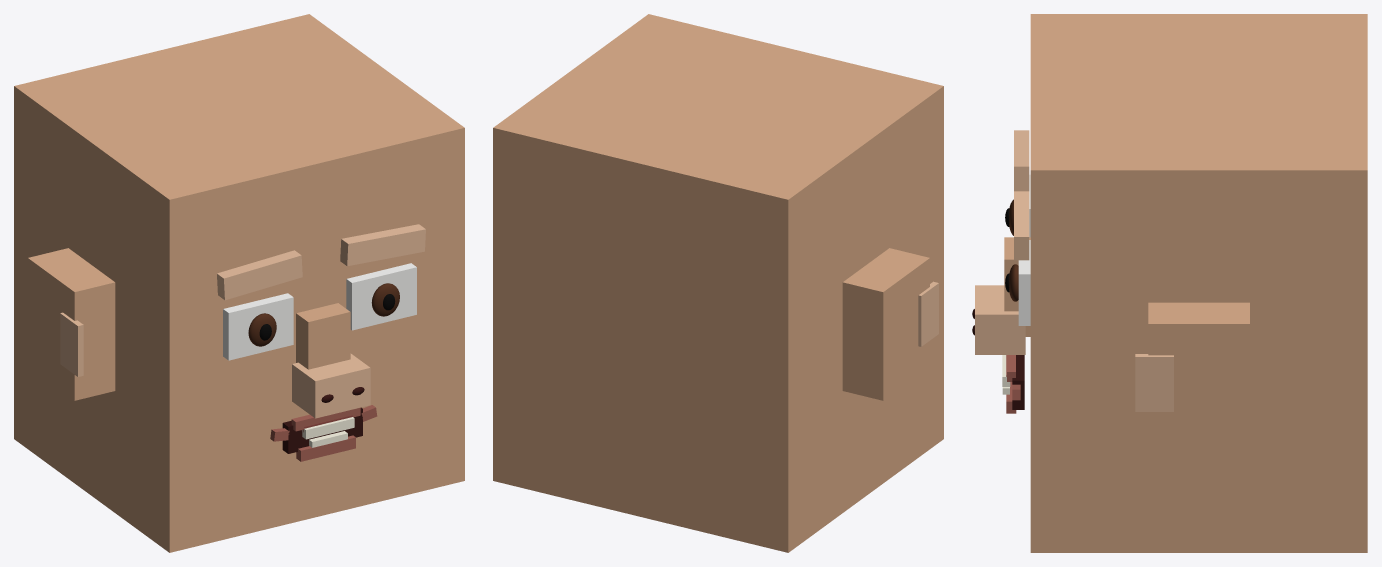
File: skomma_head6.glb
The picture shows the model from 3 angles, left to right: view 1: azimuth 30°, elevation 25°; view 2: azimuth 150°, elevation 25°; view 3: azimuth 270°, elevation 25°; orthographic projection. The views are drawn at different scales.
Parts seen in each view (by area): view 1: Head, Left_Ear, Nose_Tip, Nose_Bridge, Left_Eye, Right_Eye, Left_Eyebrow, Right_Eyebrow, Left_InnerEar, Mouth, Lower_Lip, Upper_Teeth (+3 smaller); view 2: Head, Left_Ear, Left_InnerEar; view 3: Head, Right_Ear, Nose_Tip, Right_InnerEar, Right_Eyebrow, Left_Eyebrow, Right_Eye, Nose_Bridge, Mouth.
Part boxes in pixels (box(x1,y1,x2,y2)): Head: box(14, 14, 464, 552); Left_Ear: box(28, 248, 115, 400); Nose_Tip: box(292, 353, 370, 418); Nose_Bridge: box(296, 303, 350, 369); Left_Eye: box(223, 293, 293, 360); Right_Eye: box(346, 263, 416, 330); Left_Eyebrow: box(217, 250, 302, 300); Right_Eyebrow: box(340, 224, 425, 266); Left_InnerEar: box(60, 312, 83, 376); Mouth: box(282, 407, 362, 453); Lower_Lip: box(296, 435, 355, 461); Upper_Teeth: box(302, 417, 354, 439); Head: box(493, 14, 943, 552); Left_Ear: box(842, 248, 929, 400); Left_InnerEar: box(918, 281, 938, 346); Head: box(1030, 14, 1367, 552); Right_Ear: box(1148, 302, 1249, 441); Nose_Tip: box(975, 285, 1025, 354); Right_InnerEar: box(1135, 354, 1173, 411); Right_Eyebrow: box(1014, 191, 1029, 260); Left_Eyebrow: box(1014, 130, 1029, 191); Right_Eye: box(1018, 240, 1030, 325); Nose_Bridge: box(1004, 237, 1030, 336); Mouth: box(1012, 355, 1024, 409).
Size of the model in its own units: 2.35 by 2.08 by 1.95.
